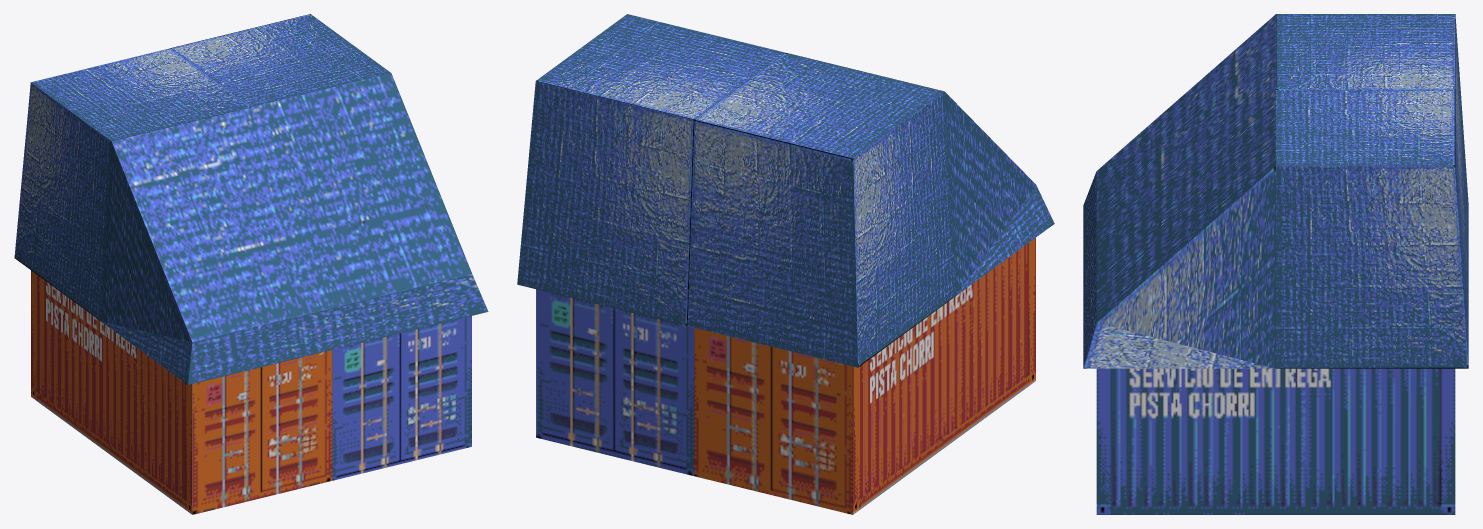
File: ContainerRampa-4x4x4.fbx
3 renders of one model, left to right at view 1: azimuth 30°, elevation 25°; view 2: azimuth 150°, elevation 25°; view 3: azimuth 270°, elevation 25°, orthographic. The views are drawn at different scales.
Visible parts, largest first — view 1: ContainerRampa-4x4x4; view 2: ContainerRampa-4x4x4; view 3: ContainerRampa-4x4x4.
Part boxes in pixels (x1=…): ContainerRampa-4x4x4: x1=14, y1=14, x2=488, y2=514; ContainerRampa-4x4x4: x1=517, y1=14, x2=1054, y2=514; ContainerRampa-4x4x4: x1=1083, y1=14, x2=1468, y2=514.
Size of the model in its own units: 4 by 4 by 4.
